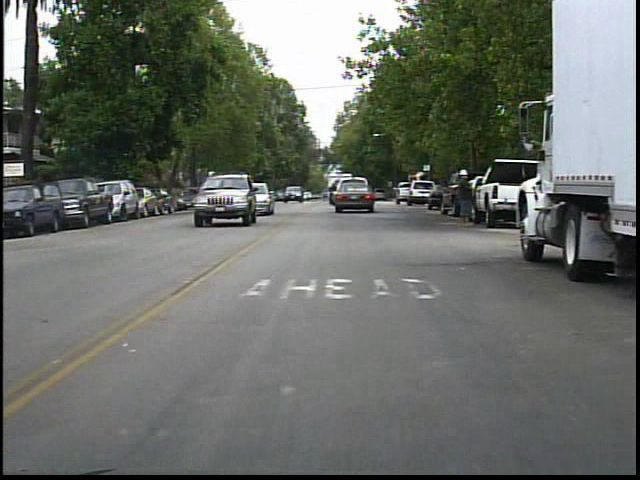person: (451, 166, 481, 229)
